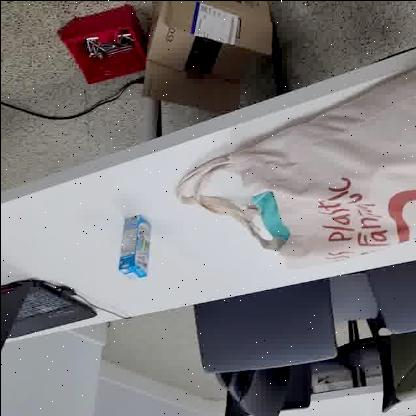Others: (112, 208, 154, 290)
